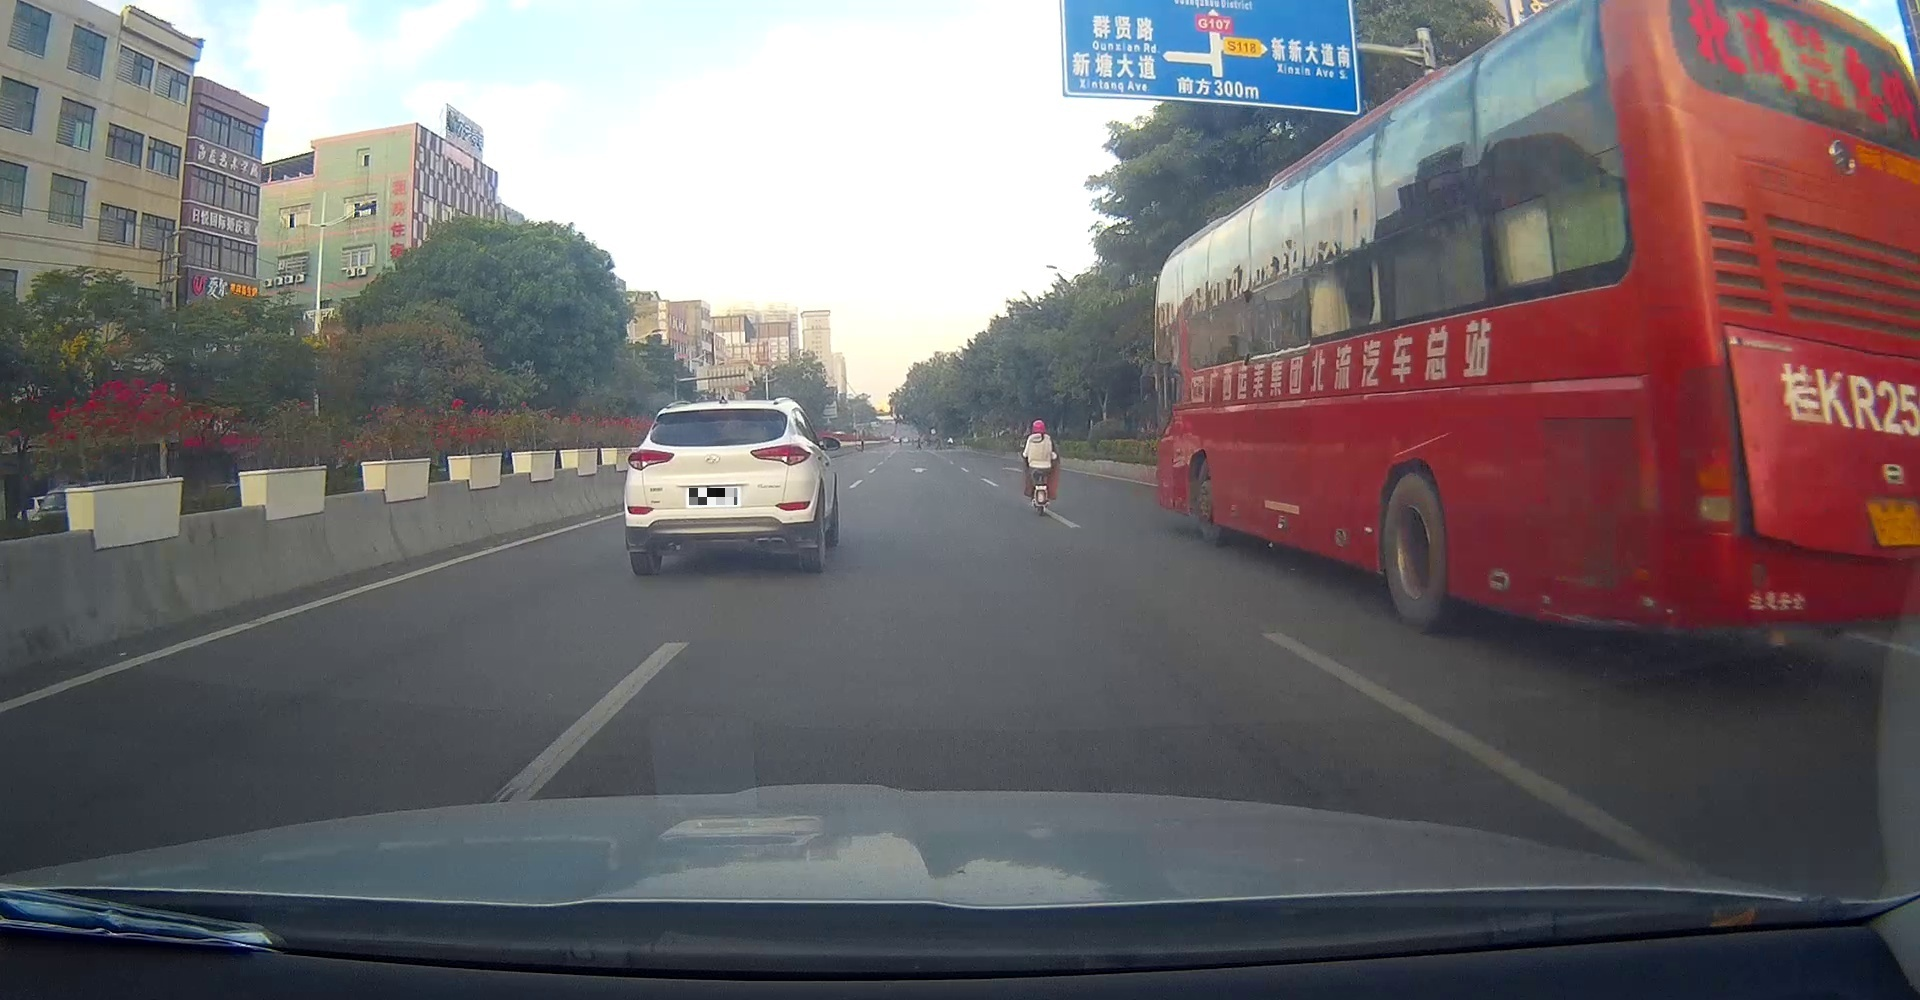L_light: (627, 449, 676, 472)
R_light: (749, 443, 811, 464)
T_light: (707, 409, 731, 414)
day-no: (623, 400, 811, 574)
plate_1: (690, 489, 737, 505)
